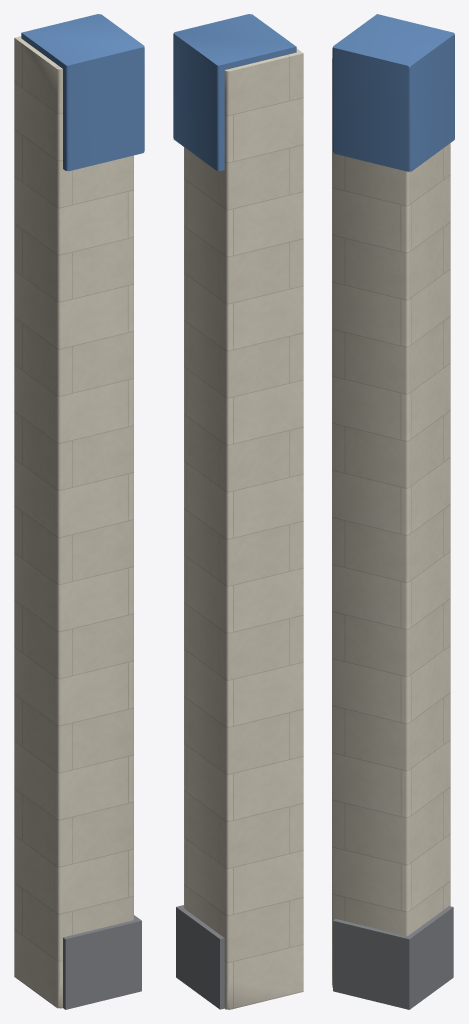
Rendered from corner_store.glb.
3 views of the same model, side by side, from view 1: azimuth 30°, elevation 25°; view 2: azimuth 210°, elevation 25°; view 3: azimuth 330°, elevation 25° (orthographic).
Visible parts, largest first — view 1: corner_store_block, corner_store_band, corner_store_dark; view 2: corner_store_block, corner_store_band, corner_store_dark; view 3: corner_store_block, corner_store_band, corner_store_dark.
Boxes of the visible parts, x1,y1,x2,y2 form: corner_store_block: (14,36,133,1008); corner_store_band: (21,14,144,171); corner_store_dark: (63,915,141,1009); corner_store_block: (184,48,303,1009); corner_store_band: (173,14,296,170); corner_store_dark: (176,905,224,1009); corner_store_block: (332,48,450,987); corner_store_band: (332,14,454,171); corner_store_dark: (333,906,453,1009).
Size of the model in its own units: 0.37 by 4.01 by 0.37.
Materials: 3 (1 with a texture image).
